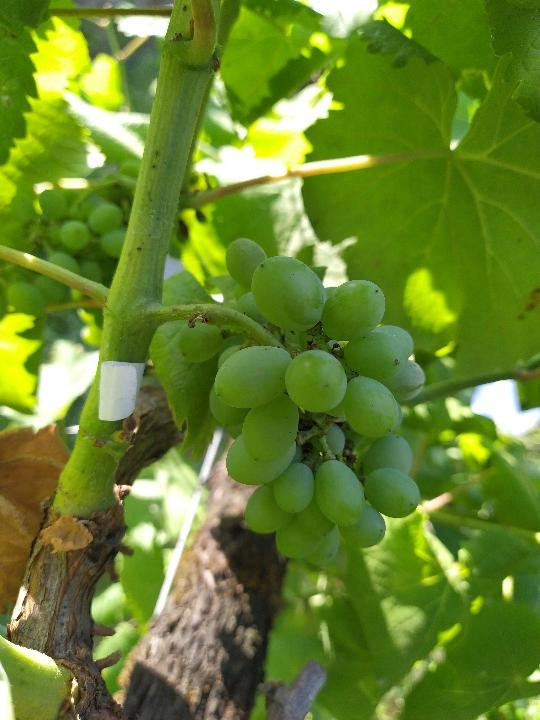grape: (173, 237, 430, 573)
